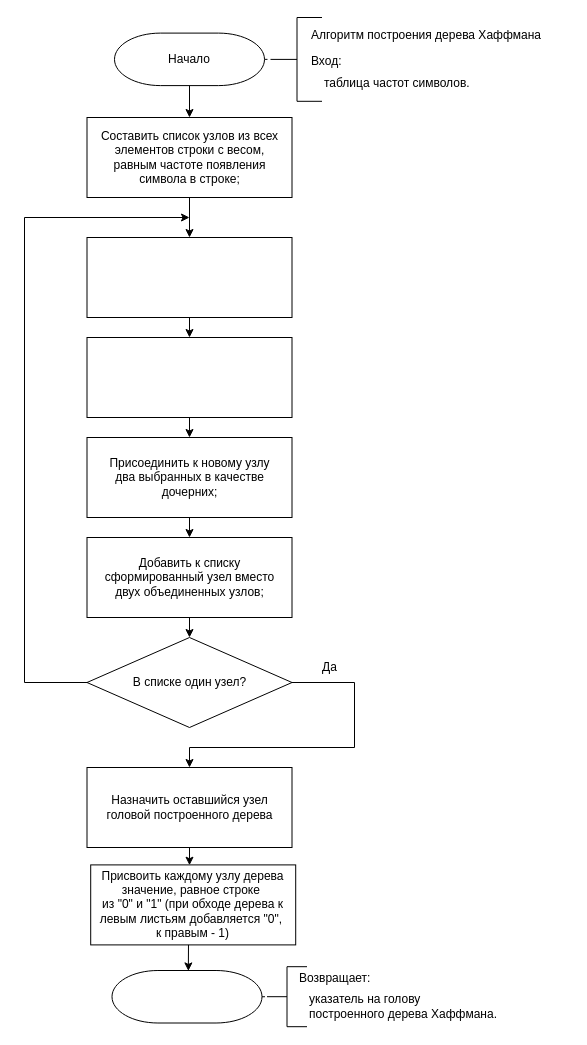
Image size: 587x1045. Some labels were removed from this diagram. Here are the shapes that lost their labels. From the top down, the centre of each, then its label:
At (189,277): "Из списка выбрать два узла с наименьшим весом;".
At (189,377): "Сформировать новый узел с весом, равным сумме весов выбранных узлов;".
At (186,996): "Конец".
